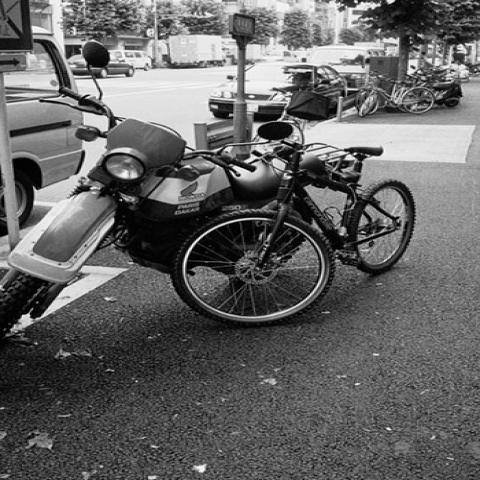car: (208, 63, 347, 118), (301, 48, 386, 90), (68, 55, 134, 78), (109, 51, 152, 71)
motorcycle: (1, 42, 296, 349)
truck: (4, 8, 90, 202), (168, 35, 228, 69)
